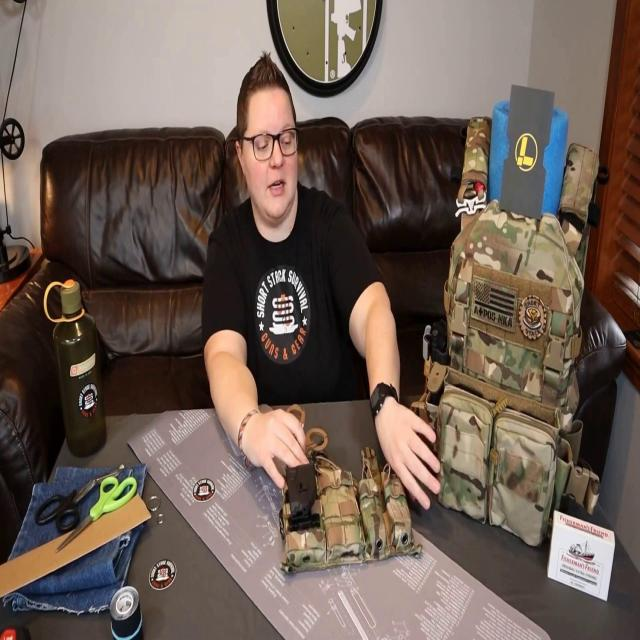scissor: (56, 476, 137, 552), (35, 469, 119, 535), (285, 403, 328, 457)
